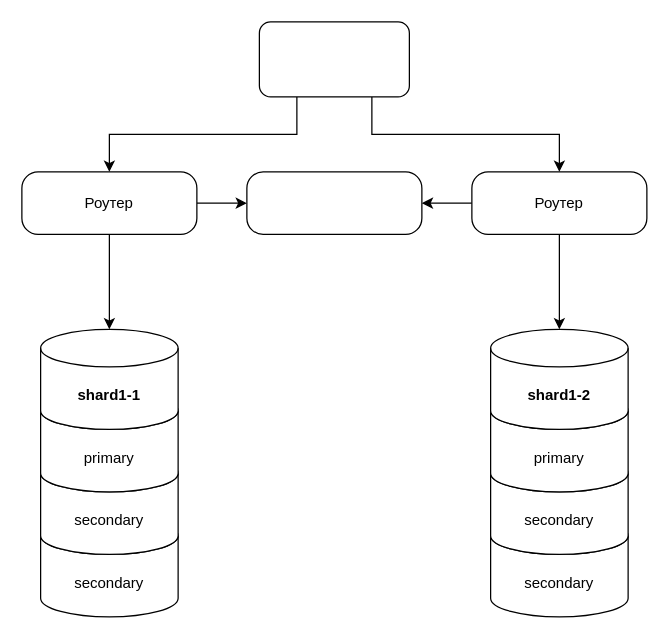
This 669x639 diagram has some shape labels left out. Here are the shapes that lost their labels. From the top down, the centre of each, then its label:
At [333,59]: "pymongo-api".
At [334,202]: "configServer".
